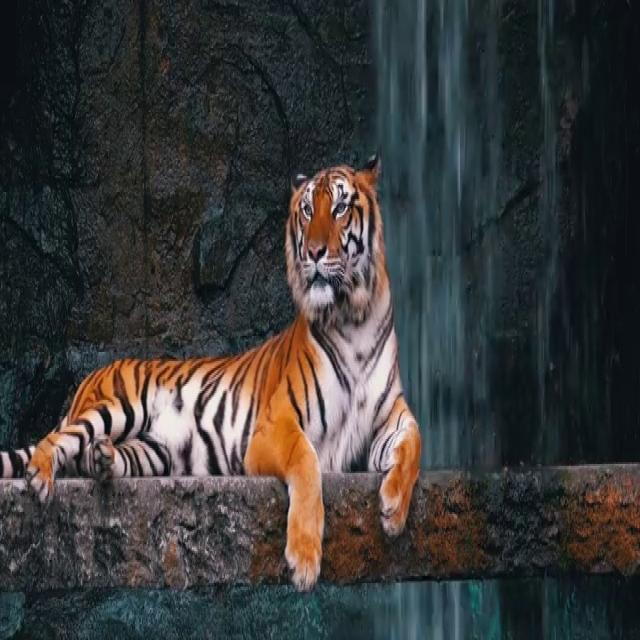tiger: (0, 146, 422, 592)
